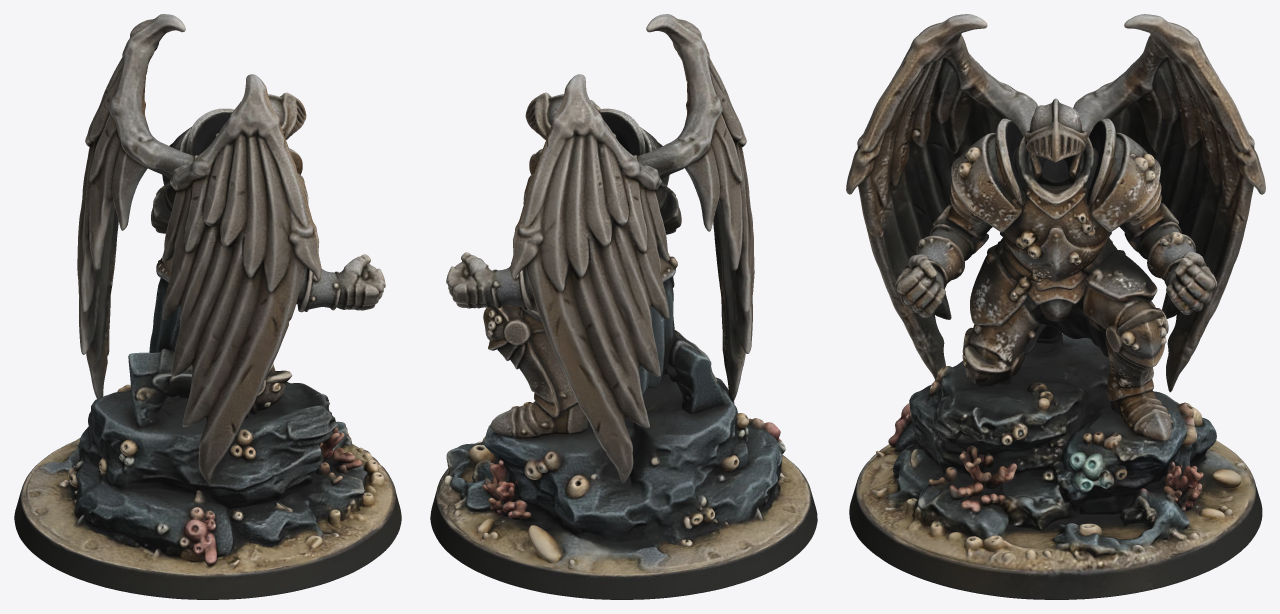
Rendered from inspiration-363.glb.
The picture shows the model from 3 angles, left to right: view 1: azimuth 30°, elevation 25°; view 2: azimuth 150°, elevation 25°; view 3: azimuth 270°, elevation 25°; orthographic projection. The views are drawn at different scales.
Visible parts, largest first — view 1: tripo_node_abd7c56c-68eb-44e3-830f-b9e284c6748b; view 2: tripo_node_abd7c56c-68eb-44e3-830f-b9e284c6748b; view 3: tripo_node_abd7c56c-68eb-44e3-830f-b9e284c6748b.
Part boxes in pixels (x1,y1,x2,y2): tripo_node_abd7c56c-68eb-44e3-830f-b9e284c6748b: (14,14,401,599); tripo_node_abd7c56c-68eb-44e3-830f-b9e284c6748b: (430,14,817,599); tripo_node_abd7c56c-68eb-44e3-830f-b9e284c6748b: (846,14,1265,599).
Bounding box in the file's own units: 0.7463 × 1 × 0.7596.
1 material, 1 textured.
